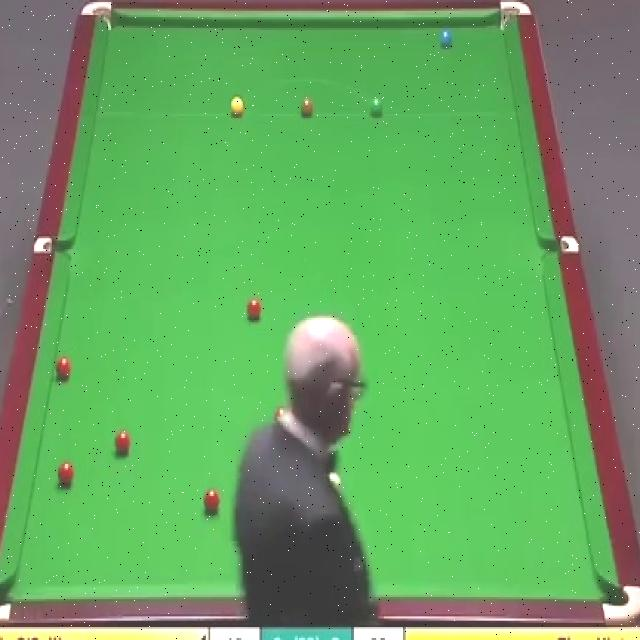blue-ball: (441, 29, 452, 51)
brown-ball: (300, 99, 314, 116)
green-ball: (370, 94, 384, 120)
red-ball: (57, 462, 76, 489), (202, 487, 221, 512), (54, 355, 72, 378), (115, 430, 131, 454), (245, 298, 262, 319)
yellow-ball: (229, 96, 245, 118)
